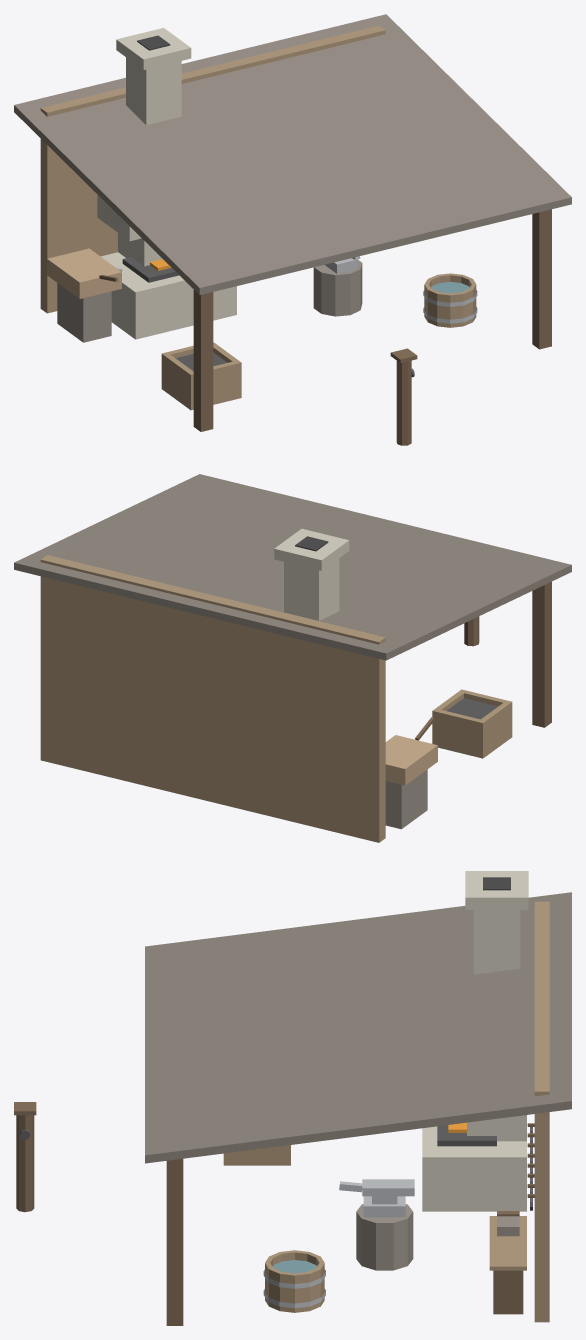
File: farrier_forge.glb
3 views of the same model, one above another, from view 1: azimuth 30°, elevation 25°; view 2: azimuth 150°, elevation 25°; view 3: azimuth 270°, elevation 25° (orthographic). The views are drawn at different scales.
Parts seen in each view (by area): view 1: FarrierForge; view 2: FarrierForge; view 3: FarrierForge.
Part boxes in pixels (x1,y1,x2,y2): FarrierForge: (14,14,571,445); FarrierForge: (14,474,571,842); FarrierForge: (14,871,571,1325).
Bounding box in the file's own units: 6.6 × 4.42 × 7.45.
